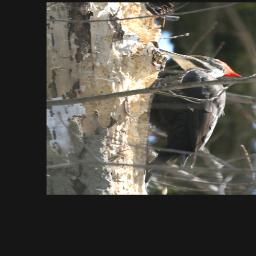Woodpecker: (147, 49, 243, 188)
